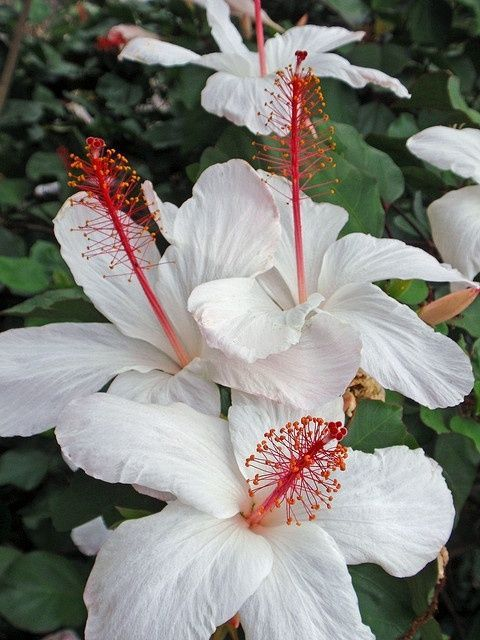Hibiscus: (1, 49, 474, 640), (96, 3, 419, 151)
